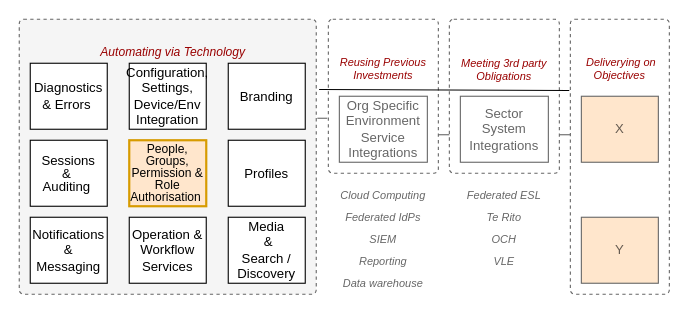
Image size: 689x314. Some labels were removed from this diagram. The box of each missing label's shape, as (x1, y1, x2, y2) in pixels:
Org Specific Logical Module: (327, 18, 438, 173)
Project Specific Logical Modules: (569, 18, 669, 294)
Sector Specific Logical Module: (448, 18, 559, 173)
Standard System Logical Module: (18, 18, 316, 294)
